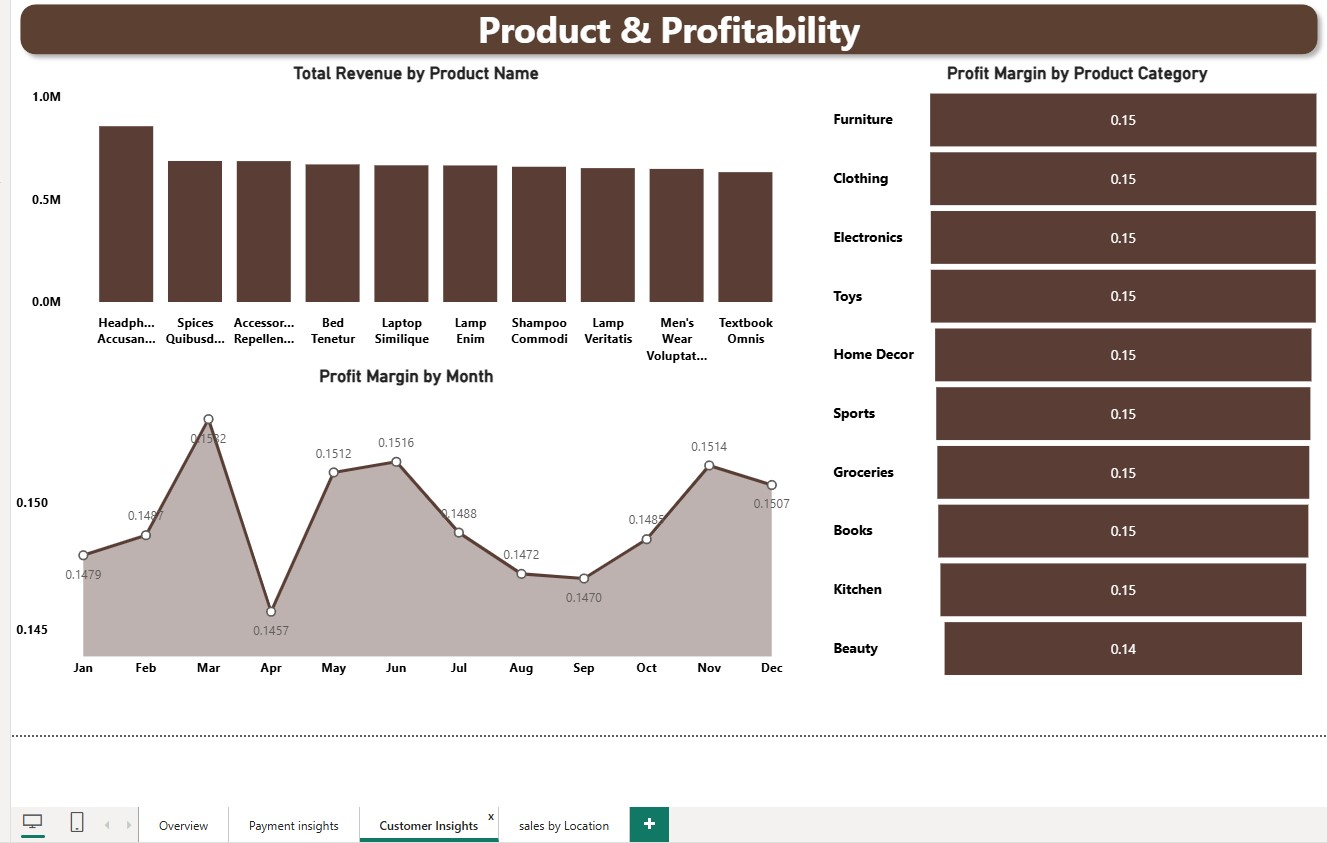

What the dashboard file says about the page in this screenshot:
{"tool":"powerbi","page":{"name":"Customer Insights","canvas":[1280,720],"ordinal":2},"visuals":[{"type":"shape","title":"Product & Profitability","box":[0,0,1280,66.8],"z":0},{"type":"clusteredColumnChart","title":"Total Revenue by Product Name","fields":{"Category":["Ecommerce_Sales_Data_2024_2025.Product Name"],"Y":["Sum(Ecommerce_Sales_Data_2024_2025.Sales)"]},"box":[0,66.4,769.4,294.5],"z":1000},{"type":"funnel","title":"Profit Margin by Product Category","fields":{"Y":["Ecommerce_Sales_Data_2024_2025.Profit Margin"],"Category":["Ecommerce_Sales_Data_2024_2025.Category"]},"box":[794.9,66.4,485.1,606],"z":2000},{"type":"lineChart","title":"Profit Margin by Month","fields":{"Y":["Ecommerce_Sales_Data_2024_2025.Profit Margin"],"Category":["DateTable.Month Name"]},"box":[0,360.9,769.4,311.5],"z":3000}]}

Visuals, with their boxes on the page's 1280x720 design canvas (x1, y1, x2, y2). These are canvas units, not pixel positions in the 1327x843 screenshot, which may show the page scaled, cropped or inside an application window:
"Product & Profitability" shape: [0, 0, 1280, 67]
"Total Revenue by Product Name" clusteredColumnChart: [0, 66, 769, 361]
"Profit Margin by Product Category" funnel: [795, 66, 1280, 672]
"Profit Margin by Month" lineChart: [0, 361, 769, 672]
